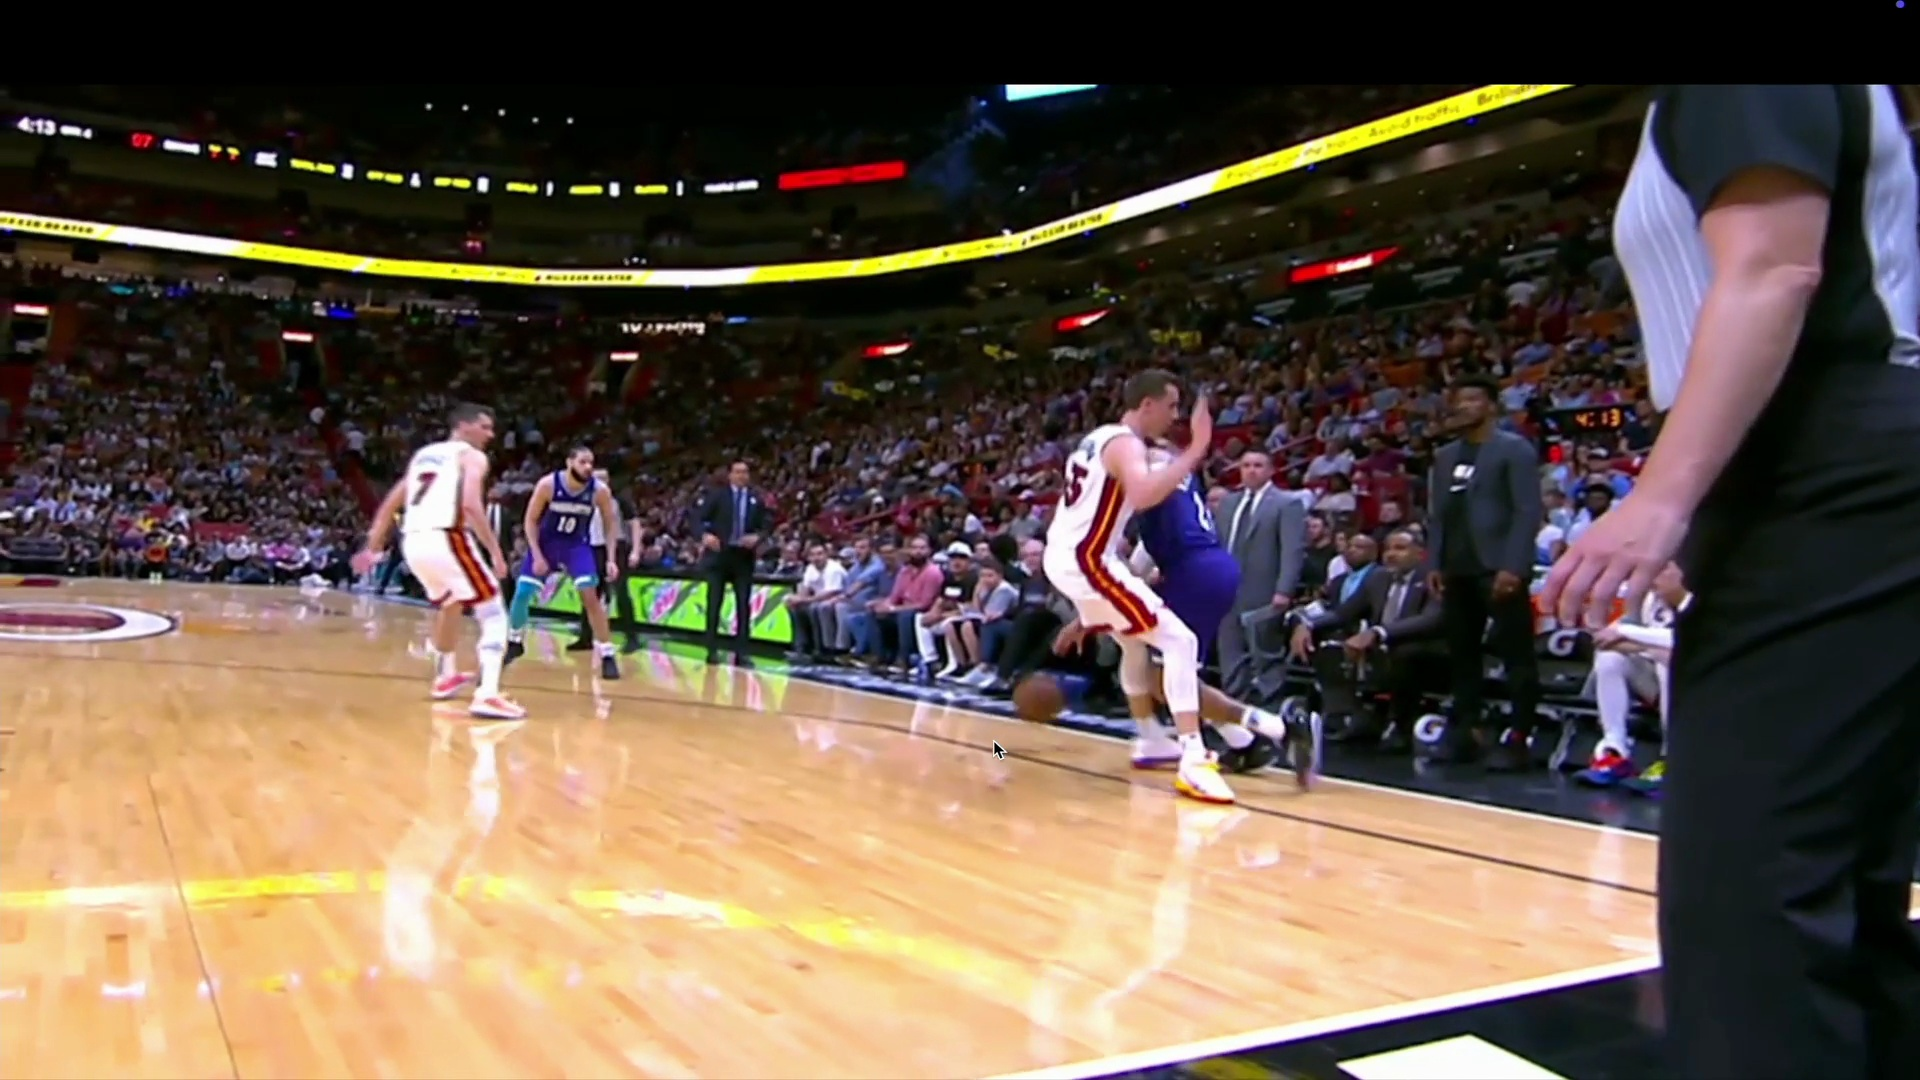Foul_moment: (1100, 431, 1186, 537)
Player: (1043, 380, 1206, 794), (383, 397, 521, 725), (537, 433, 608, 677)
